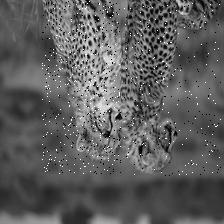Cheetha: (124, 0, 221, 176), (41, 0, 120, 173)
